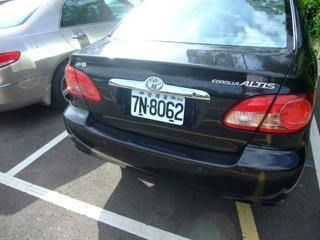plate: (128, 88, 186, 129)
